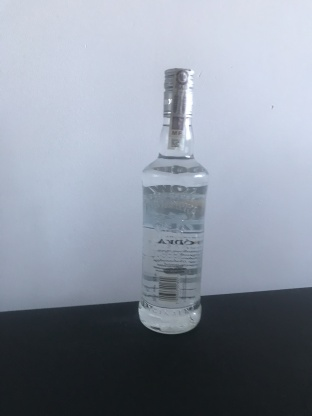nakretka: (161, 64, 196, 121)
